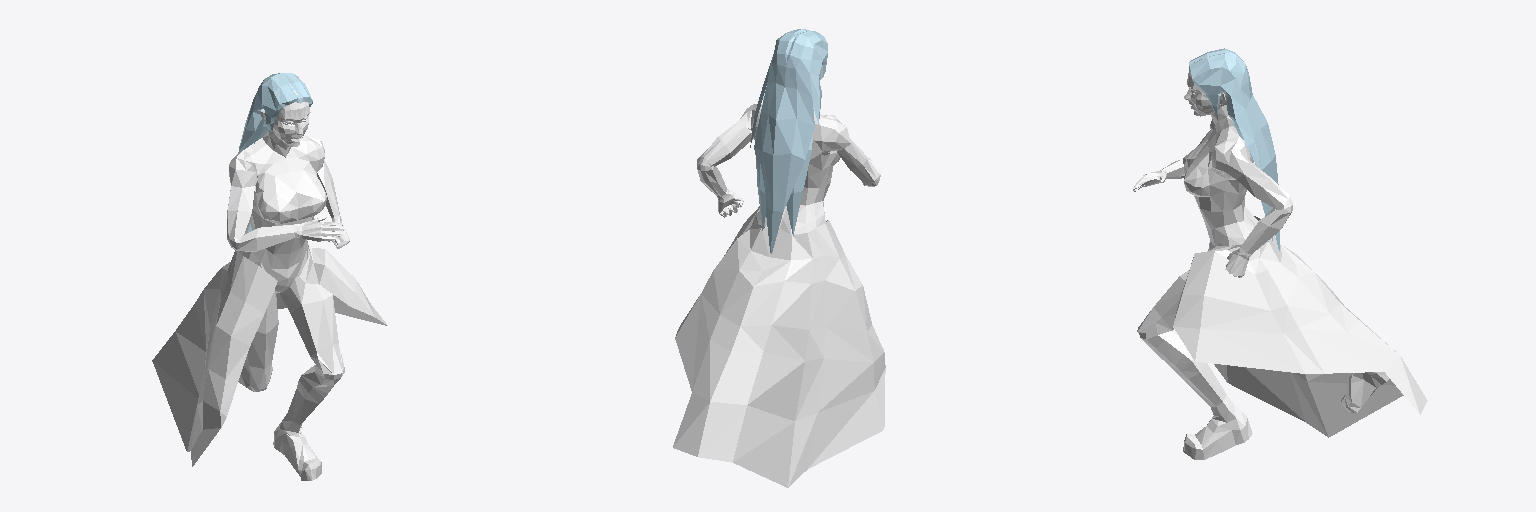
Rendered from running_006.obj.
3 views of the same model, side by side, from view 1: azimuth 30°, elevation 25°; view 2: azimuth 150°, elevation 25°; view 3: azimuth 270°, elevation 25° (orthographic).
Visible parts, largest first — view 1: Plane.001_Plane.007, Plane.003_Plane.008, capelli.001_Plane.006; view 2: Plane.003_Plane.008, capelli.001_Plane.006, Plane.001_Plane.007; view 3: Plane.003_Plane.008, Plane.001_Plane.007, capelli.001_Plane.006.
Boxes of the visible parts, x1=… form: Plane.001_Plane.007: x1=227, y1=83, x2=349, y2=480; Plane.003_Plane.008: x1=152, y1=241, x2=387, y2=466; capelli.001_Plane.006: x1=238, y1=73, x2=312, y2=232; Plane.003_Plane.008: x1=673, y1=206, x2=885, y2=487; capelli.001_Plane.006: x1=750, y1=29, x2=827, y2=253; Plane.001_Plane.007: x1=697, y1=31, x2=880, y2=235; Plane.003_Plane.008: x1=1173, y1=216, x2=1427, y2=437; Plane.001_Plane.007: x1=1133, y1=56, x2=1389, y2=459; capelli.001_Plane.006: x1=1189, y1=48, x2=1279, y2=250.
Size of the model in its own units: 2.34 by 5.04 by 3.32.